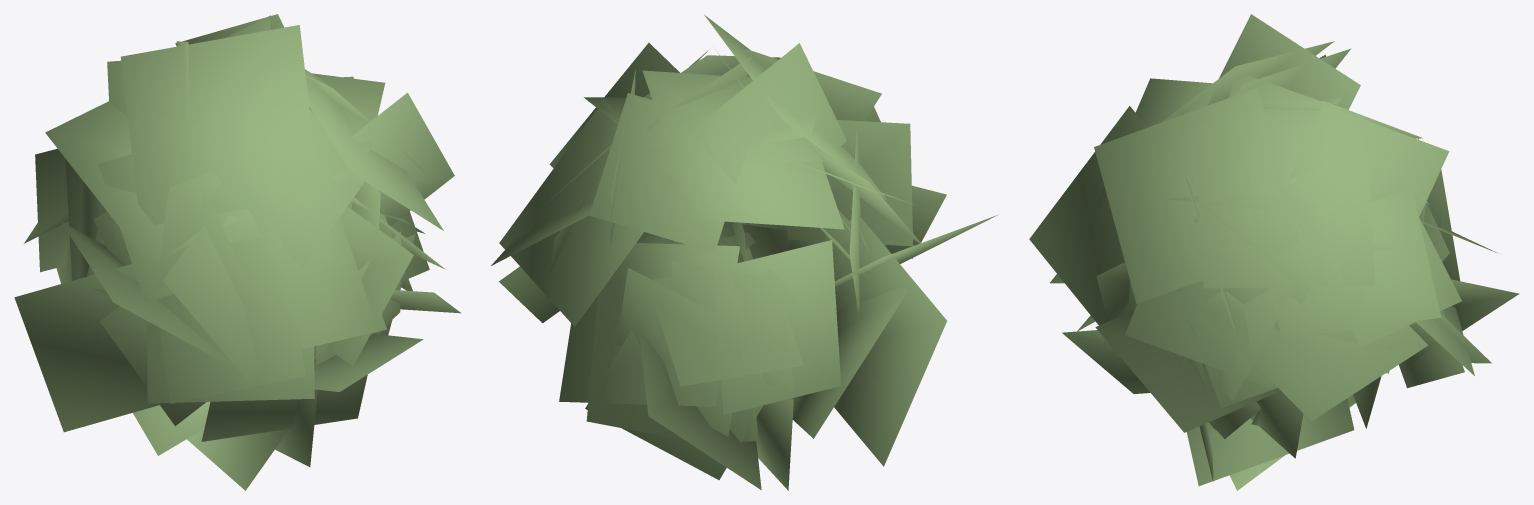
File: rose.glb
3 views of the same model, side by side, from view 1: azimuth 30°, elevation 25°; view 2: azimuth 150°, elevation 25°; view 3: azimuth 270°, elevation 25° (orthographic).
Visible parts, largest first — view 1: Rose_LOD0; view 2: Rose_LOD0; view 3: Rose_LOD0.
Boxes of the visible parts, box(x1,y1,x2,y2) form: Rose_LOD0: box(14, 14, 460, 490); Rose_LOD0: box(491, 14, 998, 490); Rose_LOD0: box(1029, 14, 1519, 490).
Size of what is drawn, in the model's own units: 1.76 by 1.79 by 1.76.
